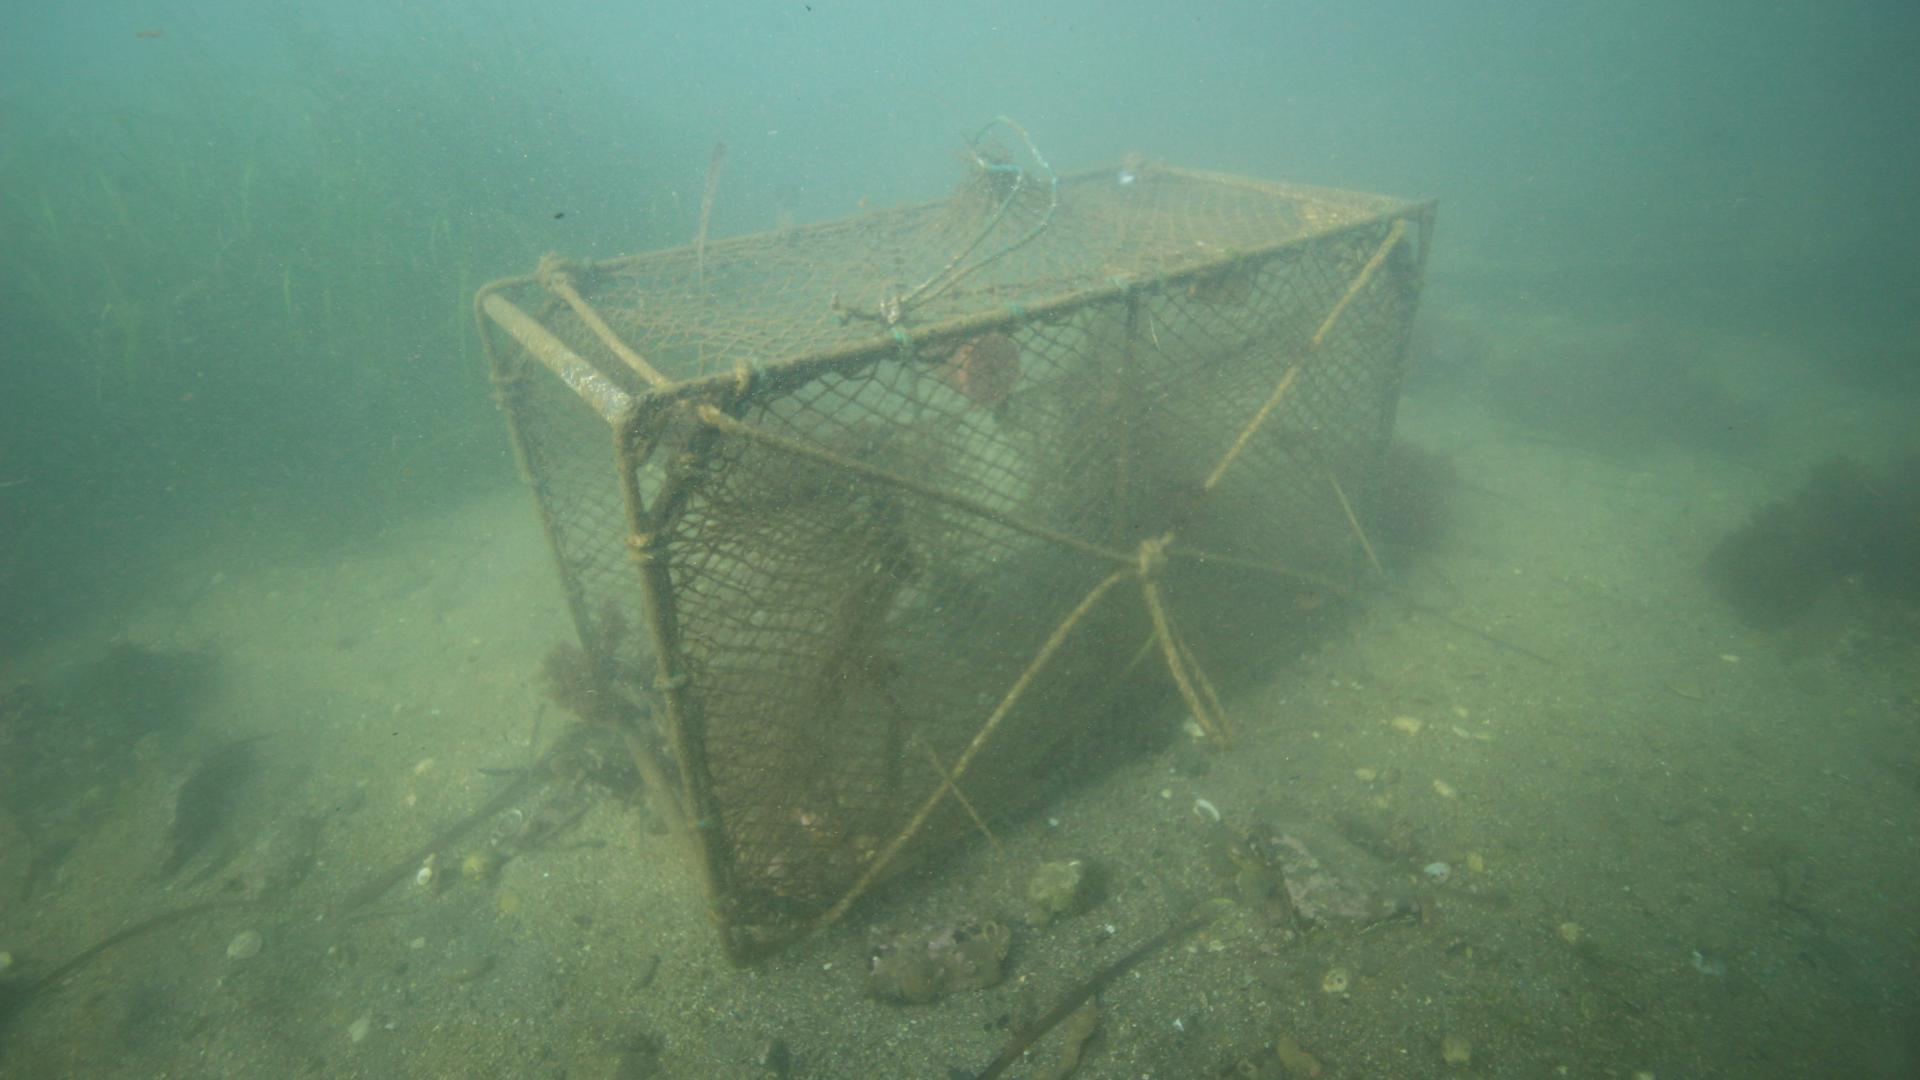rectangular fish trap: (469, 153, 1443, 975)
